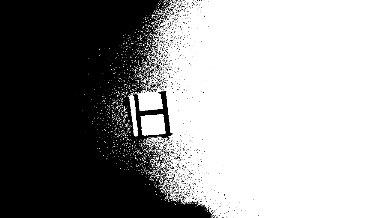H: (127, 90, 176, 134)
